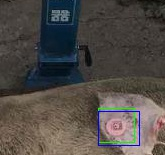text: (98, 108, 134, 142)
